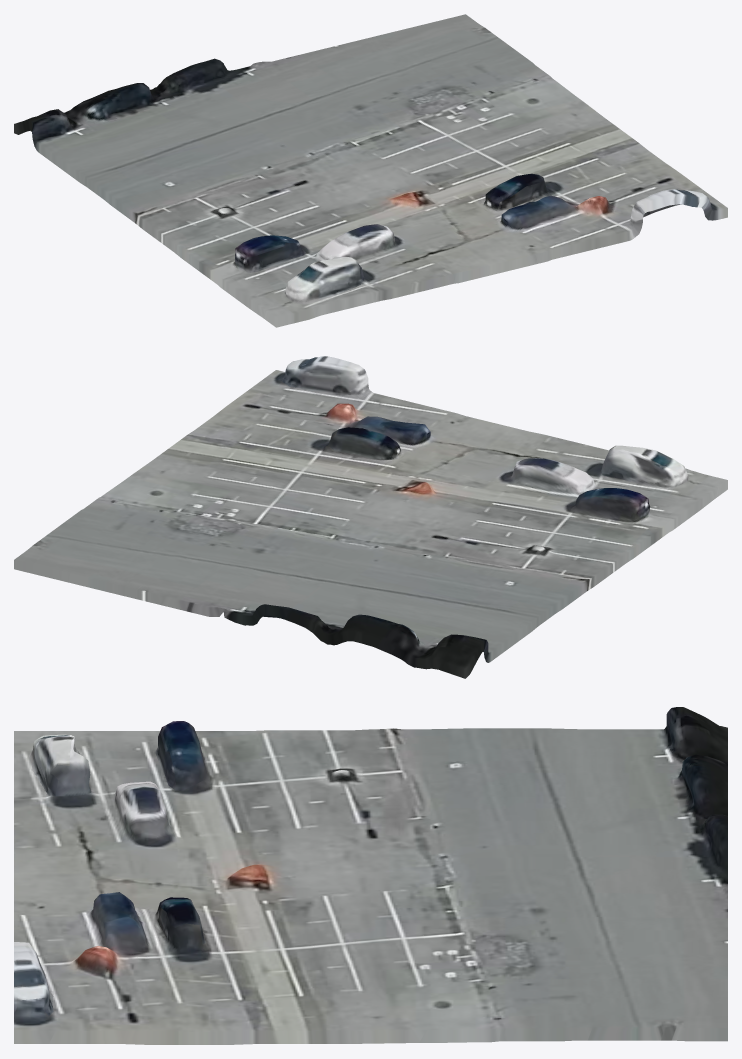
The model's file is z20-167771-405200-h0-yup-uvflip-v3-world.glb.
3 renders of one model, top to bottom at view 1: azimuth 30°, elevation 25°; view 2: azimuth 150°, elevation 25°; view 3: azimuth 270°, elevation 25°, orthographic. The views are drawn at different scales.
Bounding box in the file's own units: 30.16 × 2.36 × 30.32.
1 material, 1 textured.
